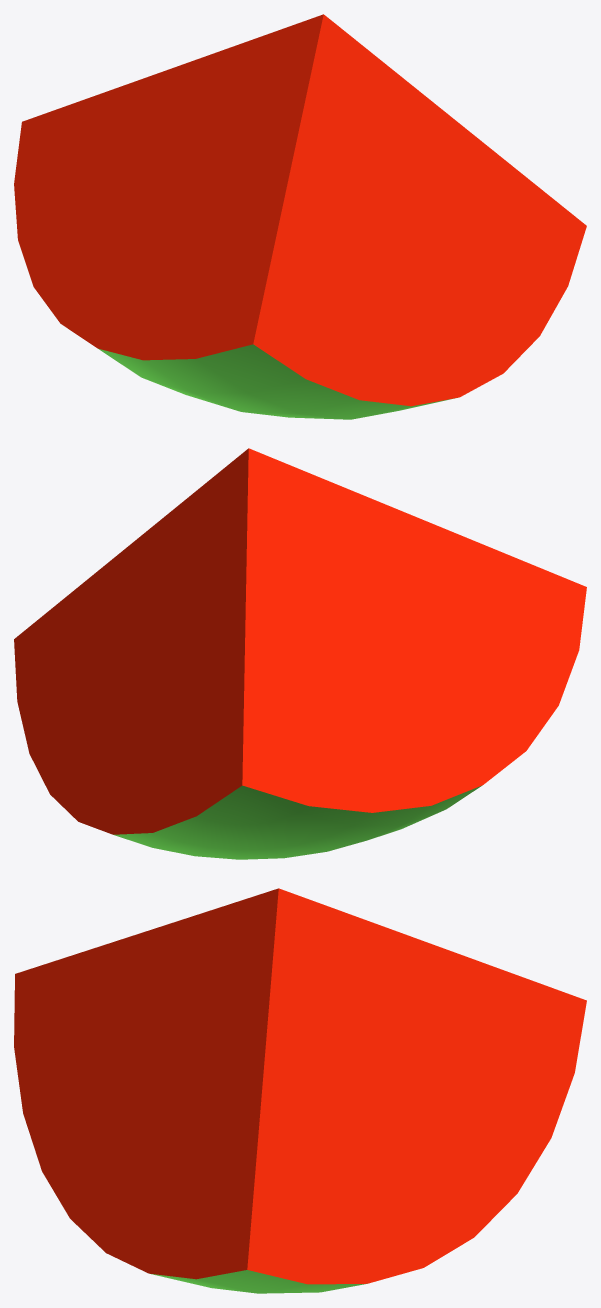
Rendered from 4 watermelon1.fbx.
3 renders of one model, top to bottom at view 1: azimuth 30°, elevation 25°; view 2: azimuth 150°, elevation 25°; view 3: azimuth 270°, elevation 25°, orthographic.
Parts seen in each view (by area): view 1: 4 watermelon1; view 2: 4 watermelon1; view 3: 4 watermelon1.
Boxes of the visible parts, x1,y1,x2,y2 form: 4 watermelon1: [14, 14, 586, 419]; 4 watermelon1: [14, 448, 586, 859]; 4 watermelon1: [14, 888, 586, 1293].
Size of the model in its own units: 10.69 by 7.54 by 10.65.
